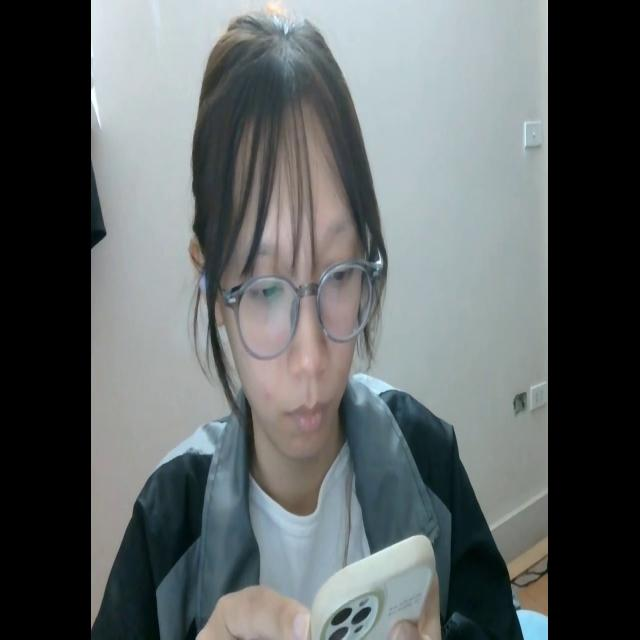phone: (307, 532, 433, 640)
student: (97, 6, 519, 640)
